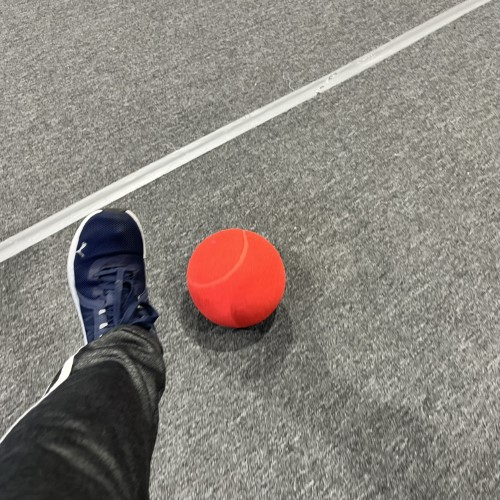red: (185, 227, 288, 331)
